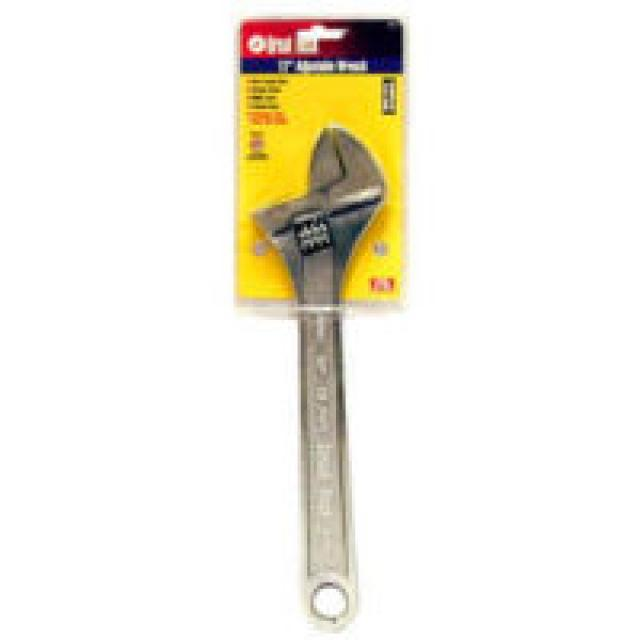wrench: (254, 120, 391, 628)
